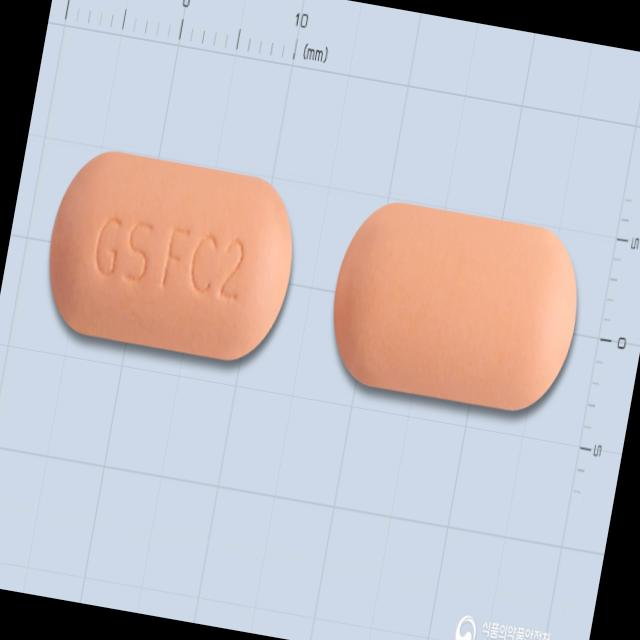Kivexa: (33, 141, 310, 370)
